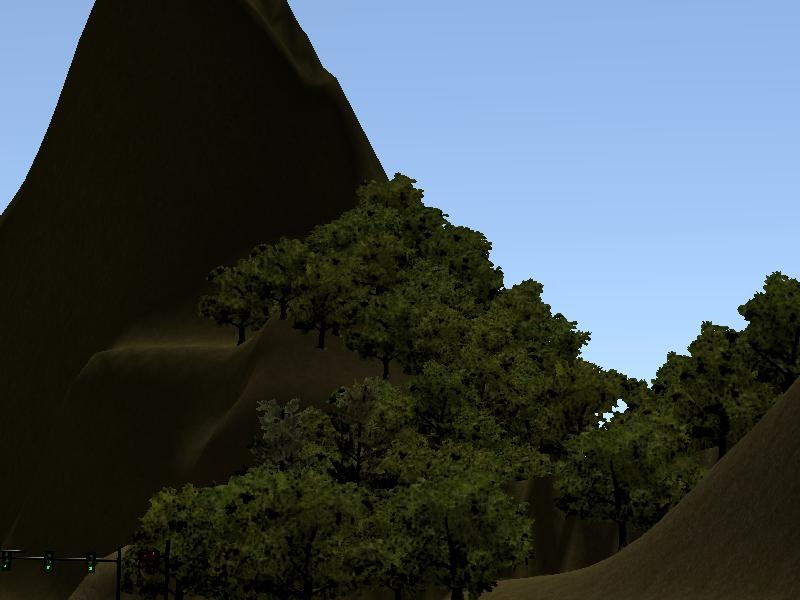GREEN: (39, 541, 60, 574), (82, 544, 100, 577)
